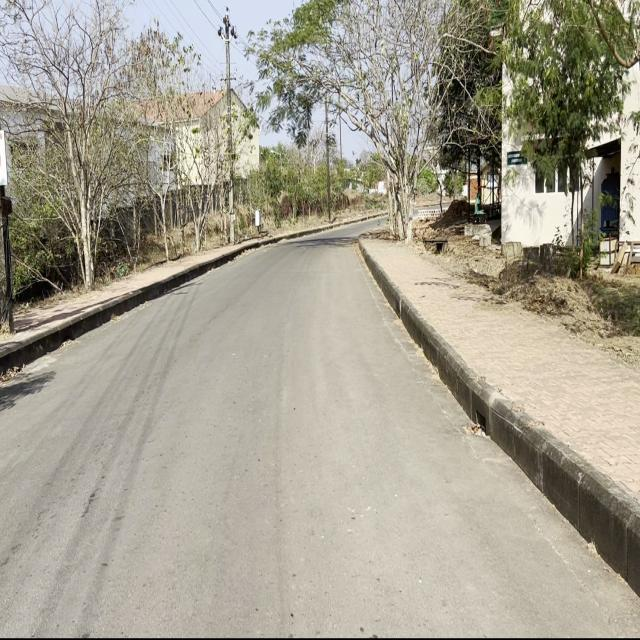Road: (2, 240, 637, 633)
